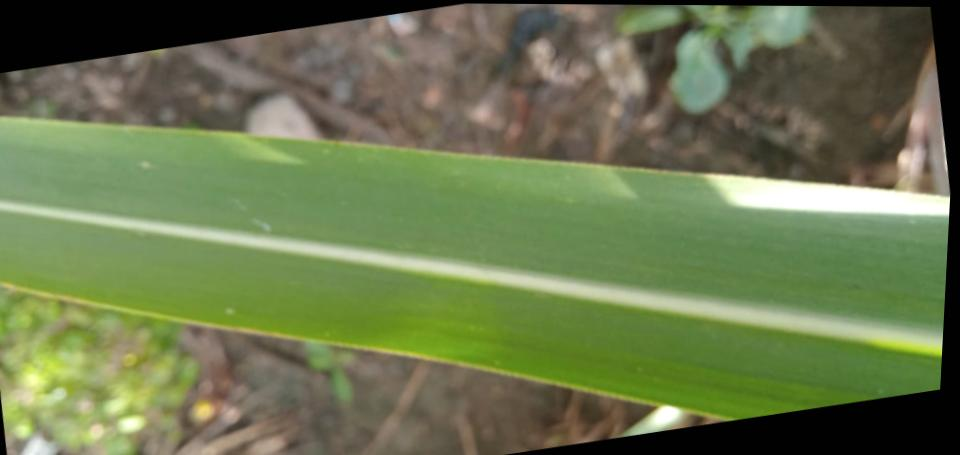Healthy: (0, 112, 950, 420)
